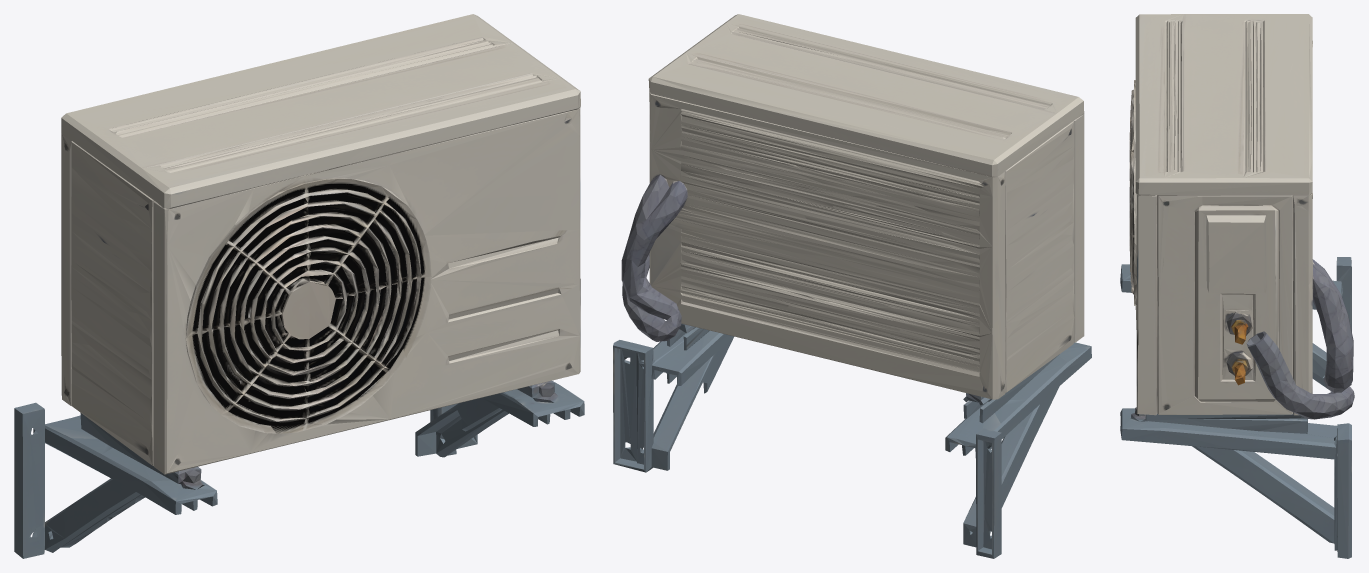
The model's file is ac_outdoor_unit.glb.
3 views of the same model, side by side, from view 1: azimuth 30°, elevation 25°; view 2: azimuth 150°, elevation 25°; view 3: azimuth 270°, elevation 25° (orthographic). The views are drawn at different scales.
Visible parts, largest first — view 1: ac_outdoor_unit; view 2: ac_outdoor_unit; view 3: ac_outdoor_unit.
Part boxes in pixels (x1,y1,x2,y2): ac_outdoor_unit: (14,14,584,558); ac_outdoor_unit: (613,14,1091,558); ac_outdoor_unit: (1120,14,1354,558).
Bounding box in the file's own units: 0.6852 × 0.62 × 0.3529.
1 material, 1 textured.
